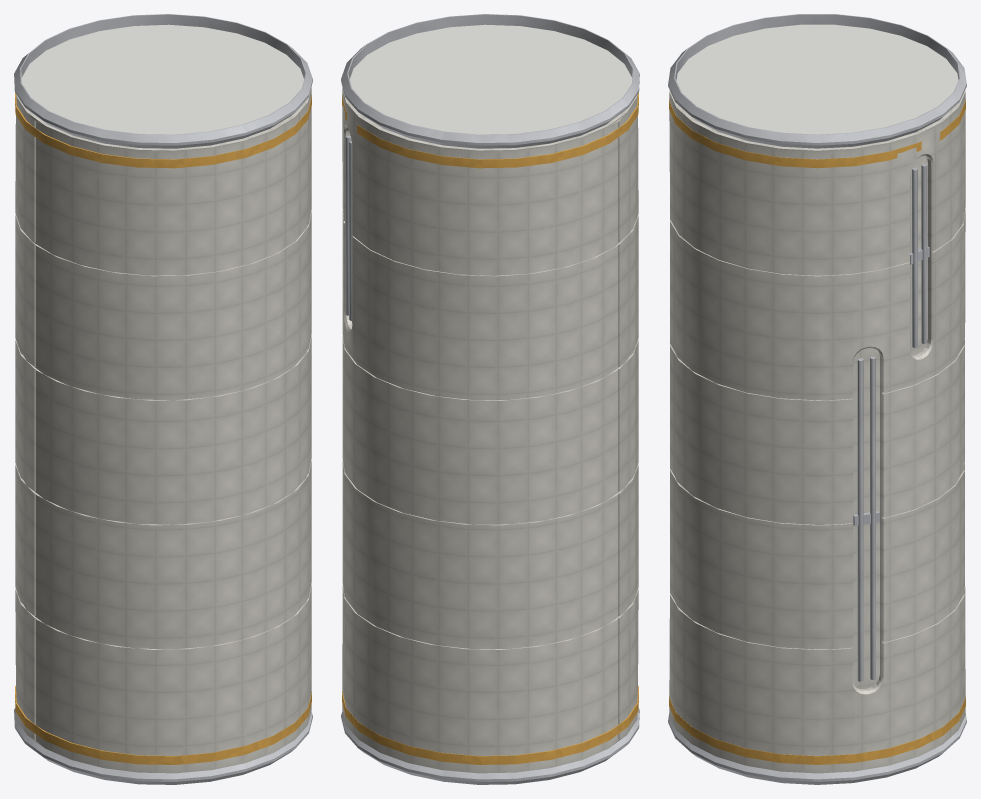
File: ax_tank_05_hydrolox_m_long.glb
The picture shows the model from 3 angles, left to right: view 1: azimuth 30°, elevation 25°; view 2: azimuth 150°, elevation 25°; view 3: azimuth 270°, elevation 25°; orthographic projection.
Parts seen in each view (by area): view 1: mli_blanket, dome_caps, end_rings, blanket_bands; view 2: mli_blanket, dome_caps, end_rings, blanket_bands, raceway_lines; view 3: mli_blanket, dome_caps, end_rings, raceway_lines, blanket_bands.
Boxes of the visible parts, <box> form: mli_blanket: <box>15,87,311,773</box>; dome_caps: <box>21,24,303,134</box>; end_rings: <box>14,14,312,784</box>; blanket_bands: <box>15,93,311,764</box>; mli_blanket: <box>342,87,638,773</box>; dome_caps: <box>350,24,632,134</box>; end_rings: <box>341,14,639,784</box>; blanket_bands: <box>342,93,638,764</box>; raceway_lines: <box>345,135,353,320</box>; mli_blanket: <box>669,90,965,773</box>; dome_caps: <box>676,24,958,134</box>; end_rings: <box>668,14,966,784</box>; raceway_lines: <box>853,163,929,681</box>; blanket_bands: <box>669,99,965,764</box>.
Size of the model in its own units: 2.5 by 6 by 2.5.
4 materials, 3 textured.
